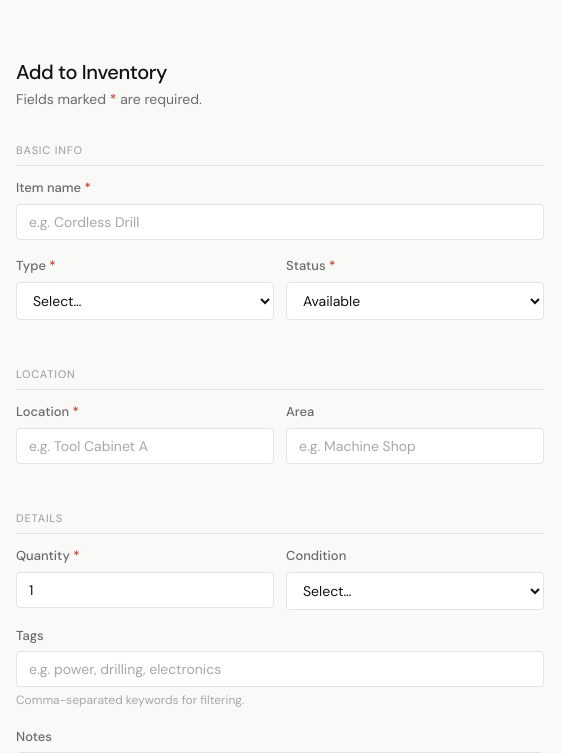
Test: AddItemPage — tag validation › shows an inline error when tags has a trailing comma
This screenshot has width=561, height=753.
In the field labelled "Item name *": (280, 222) x1=16 y1=204 x2=544 y2=240, type "Cordless Drill"
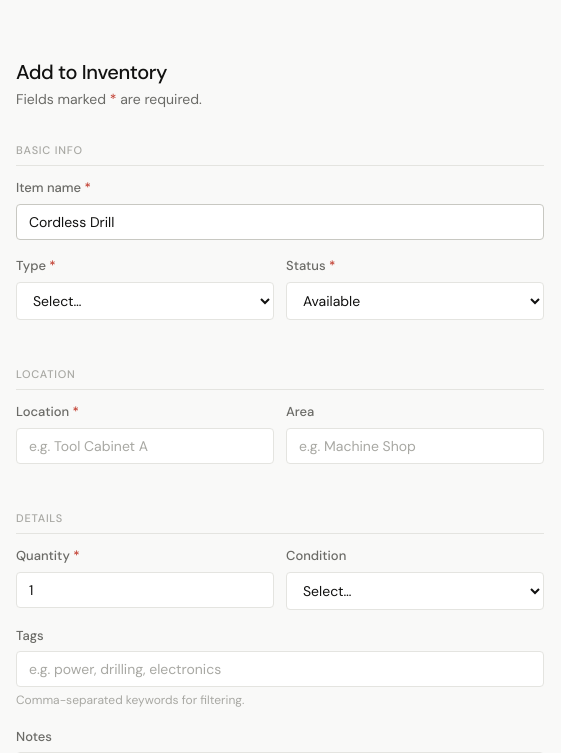
Select "Tool" in the dropdown labelled "Type *": (145, 301) x1=16 y1=282 x2=274 y2=320
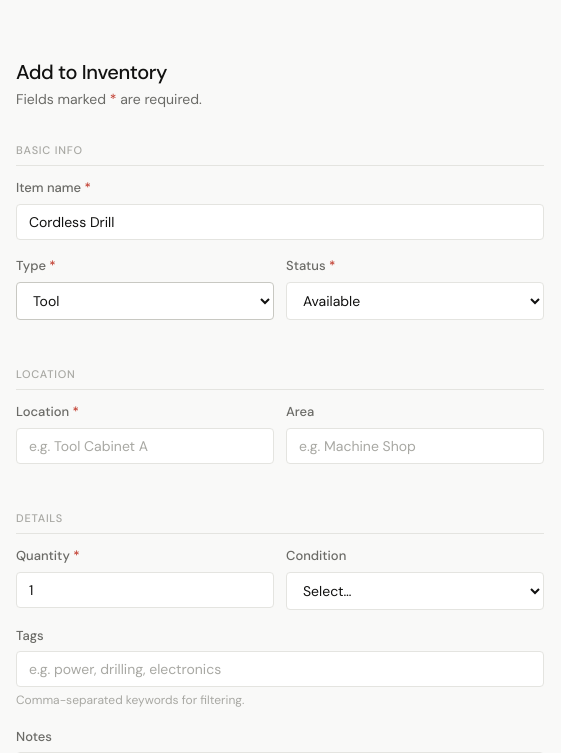
In the field labelled "Location *": (145, 446) x1=16 y1=428 x2=274 y2=464, type "Bay 1"
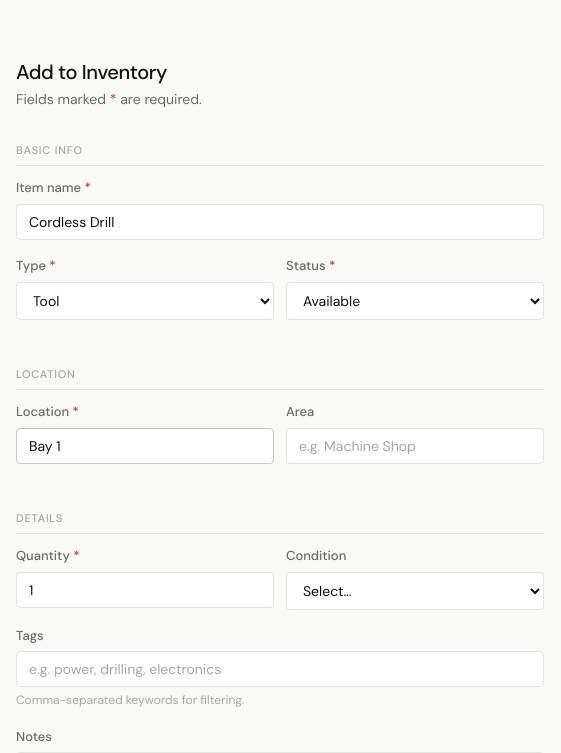
In the field labelled "Tags": (280, 669) x1=16 y1=651 x2=544 y2=687, type "motor,"
(page scrolled)
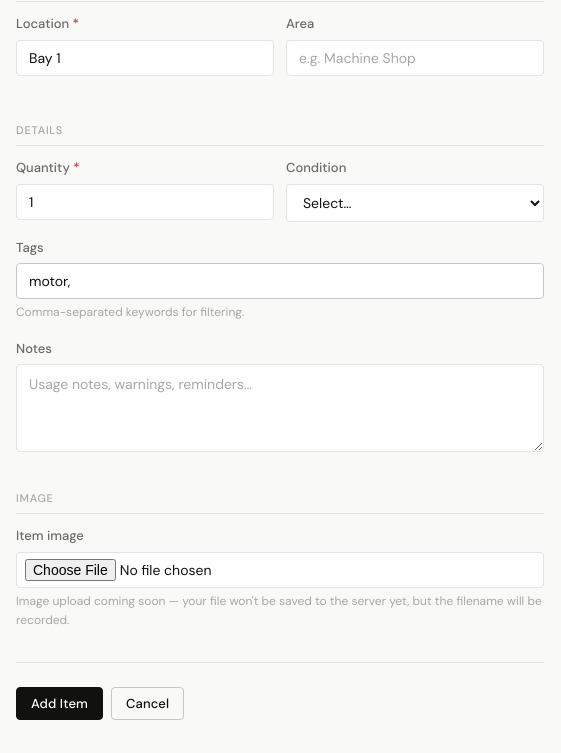
Click the button "Add Item": (60, 704) x1=16 y1=687 x2=103 y2=720
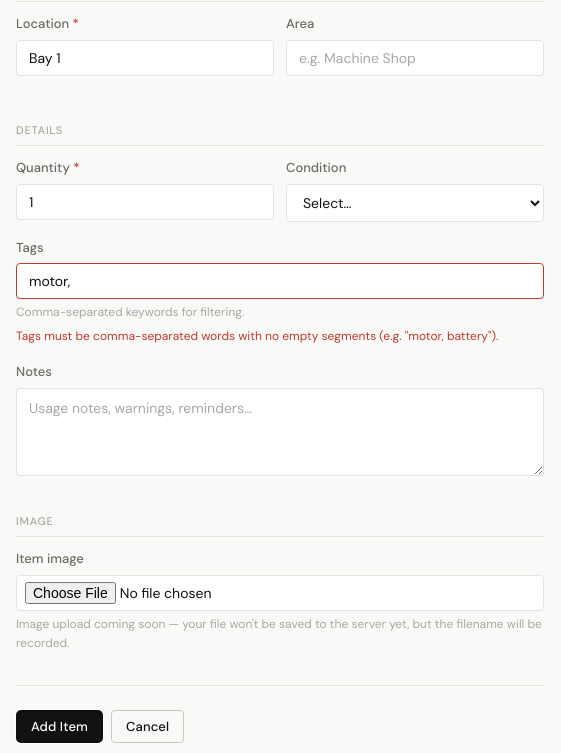
Expected: the text "no empty segments" is shown, x1=16 y1=328 x2=498 y2=344
